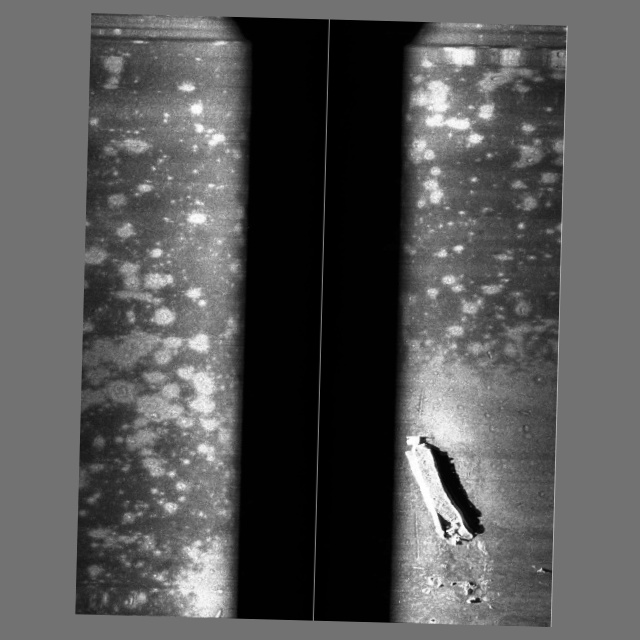Shipwreck: (397, 436, 548, 625)
